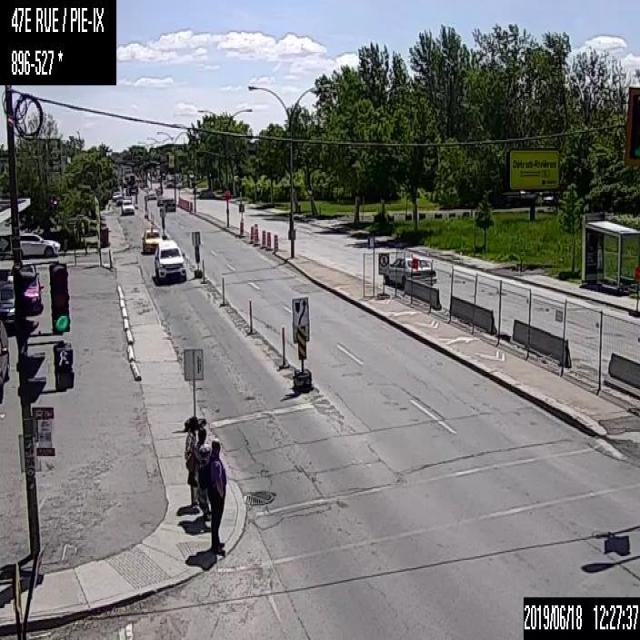construction: (280, 328, 285, 368), (247, 298, 252, 334), (220, 278, 224, 306), (238, 220, 244, 235), (254, 222, 258, 244), (266, 230, 270, 248), (273, 235, 277, 252), (261, 229, 265, 246), (201, 265, 204, 283), (250, 225, 253, 242), (189, 200, 192, 211)
pedestrian: (199, 439, 226, 553), (194, 425, 210, 527), (184, 412, 200, 507)
vehicle: (382, 253, 436, 288), (152, 239, 186, 281), (8, 269, 41, 312), (9, 230, 60, 254), (0, 279, 17, 329), (6, 260, 35, 283), (0, 319, 8, 401), (141, 227, 162, 253), (120, 198, 134, 214), (163, 197, 174, 211), (115, 196, 124, 204), (156, 196, 164, 204)
